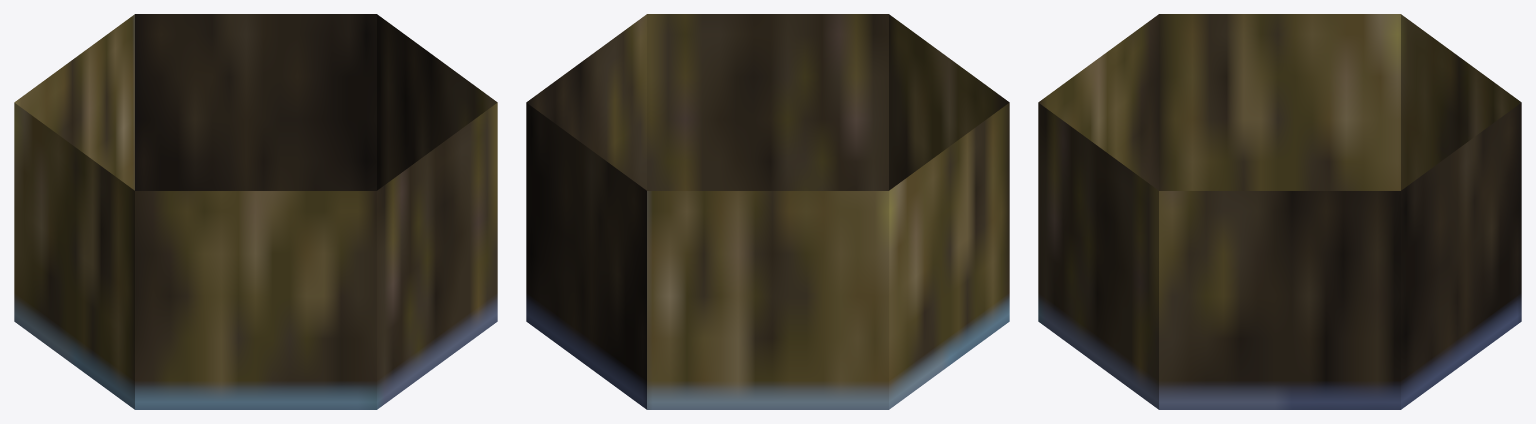
File: cell_03.obj
3 views of the same model, side by side, from view 1: azimuth 30°, elevation 25°; view 2: azimuth 150°, elevation 25°; view 3: azimuth 270°, elevation 25° (orthographic).
Visible parts, largest first — view 1: Cylinder.001; view 2: Cylinder.001; view 3: Cylinder.001.
Boxes of the visible parts, x1,y1,x2,y2 form: Cylinder.001: [14, 14, 497, 409]; Cylinder.001: [526, 14, 1009, 409]; Cylinder.001: [1038, 14, 1521, 409].
Bounding box in the file's own units: 1.73 × 1 × 2.
